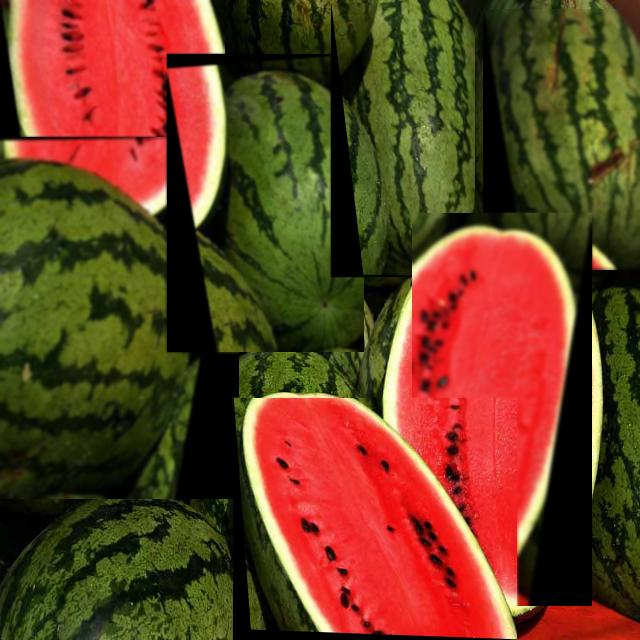watermelon: (0, 137, 239, 499), (412, 213, 592, 606), (233, 398, 517, 640), (167, 55, 364, 352), (0, 0, 225, 231), (483, 9, 640, 270), (331, 3, 475, 277)
